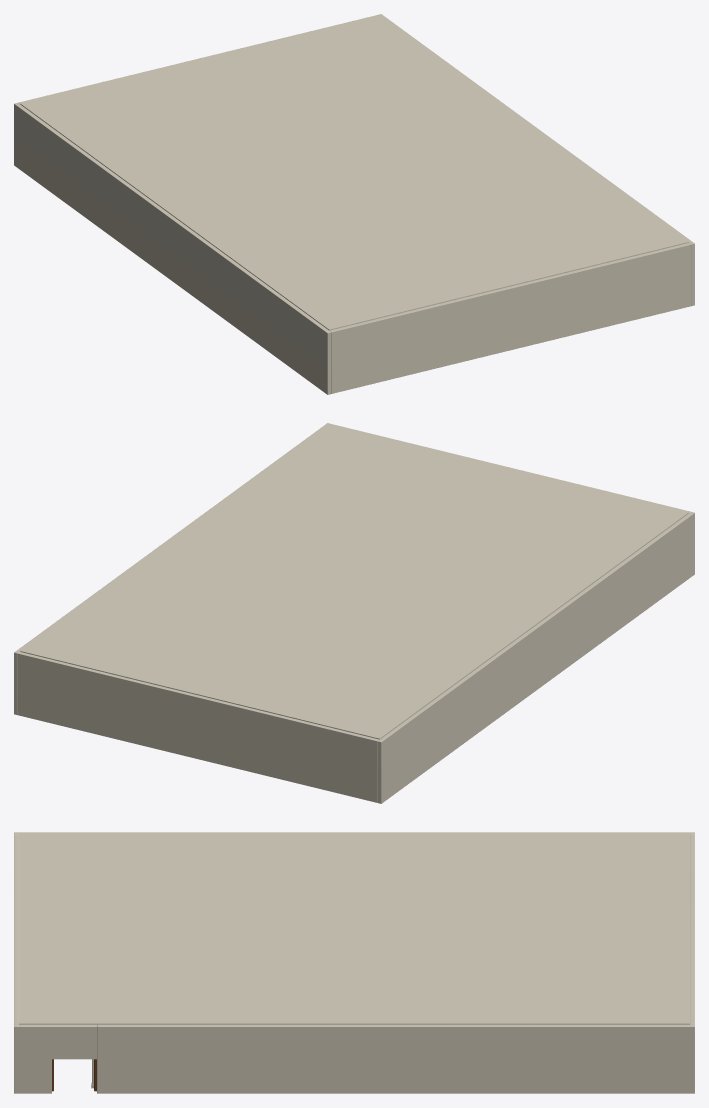
Rendered from WP05_moonfruit.glb.
The picture shows the model from 3 angles, top to bottom: view 1: azimuth 30°, elevation 25°; view 2: azimuth 150°, elevation 25°; view 3: azimuth 270°, elevation 25°; orthographic projection. The views are drawn at different scales.
Parts seen in each view (by area): view 1: WP05_opaque_ceiling_cap, WP05_aft_enclosure, WP05_west_enclosure, WP05_east_wall_fore, WP05_fore_enclosure; view 2: WP05_opaque_ceiling_cap, WP05_fore_enclosure, WP05_west_enclosure, WP05_east_wall_fore, WP05_aft_enclosure; view 3: WP05_opaque_ceiling_cap, WP05_east_wall_fore, WP05_east_wall_aft, WP05_portal_head, WP05_west_enclosure, WP05_fore_enclosure, WP05_aft_enclosure.
Boxes of the visible parts, box(x1,y1,x2,y2) form: WP05_opaque_ceiling_cap: box(20, 15, 688, 330); WP05_aft_enclosure: box(329, 243, 690, 393); WP05_west_enclosure: box(14, 102, 331, 394); WP05_east_wall_fore: box(378, 14, 656, 215); WP05_fore_enclosure: box(18, 15, 378, 103); WP05_opaque_ceiling_cap: box(20, 424, 688, 739); WP05_fore_enclosure: box(18, 652, 379, 802); WP05_west_enclosure: box(377, 511, 694, 803); WP05_east_wall_fore: box(14, 451, 291, 715); WP05_aft_enclosure: box(330, 424, 690, 512); WP05_opaque_ceiling_cap: box(19, 833, 689, 1024); WP05_east_wall_fore: box(97, 1024, 694, 1093); WP05_east_wall_aft: box(14, 1024, 51, 1093); WP05_portal_head: box(51, 1024, 96, 1059); WP05_west_enclosure: box(14, 832, 694, 834); WP05_fore_enclosure: box(690, 834, 694, 1024); WP05_aft_enclosure: box(14, 834, 18, 1024).
Bounding box in the file's own units: 46 × 7.5 × 68.
52 materials, 51 textured.
